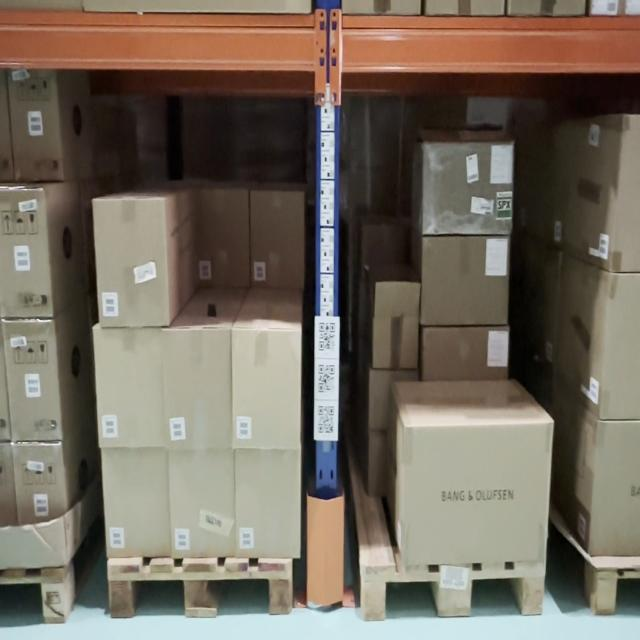box: (409, 428, 546, 569), (95, 200, 172, 318), (233, 330, 301, 458), (425, 136, 515, 229), (167, 327, 233, 444), (97, 330, 164, 444), (426, 237, 506, 323), (232, 459, 302, 551), (107, 452, 169, 552), (167, 455, 231, 551)
